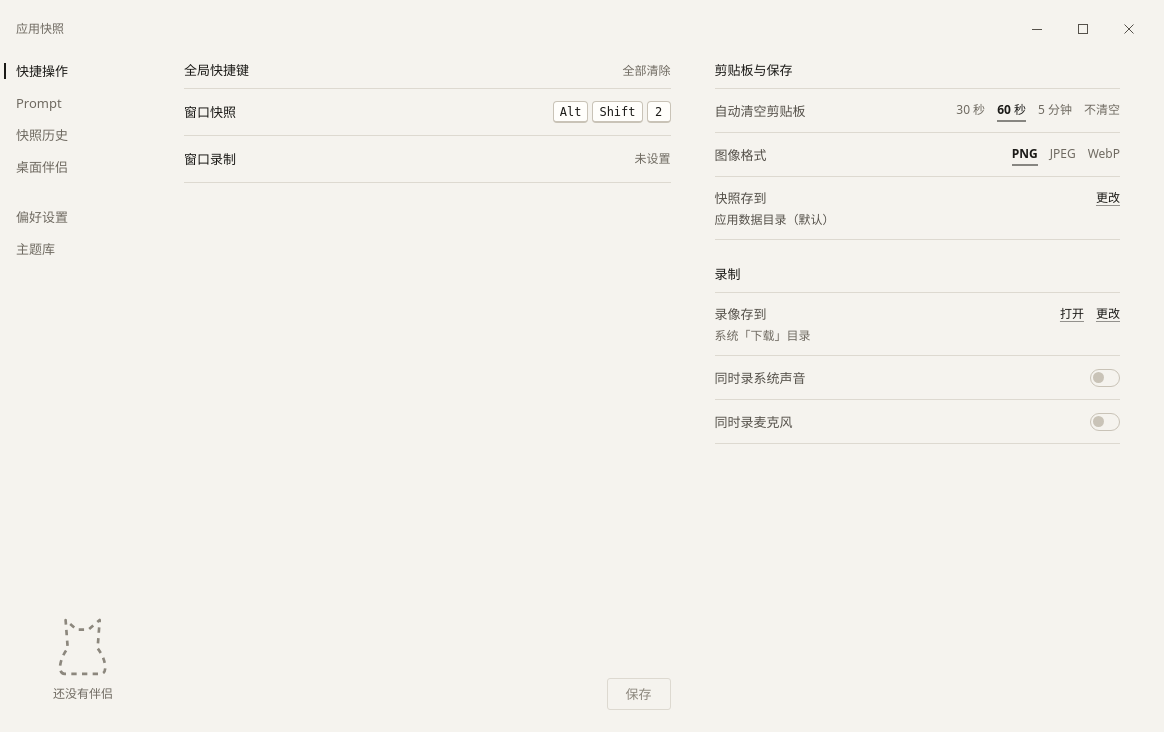
Test: global shortcuts › hands the edited bindings to the backend and shows its verdict
Click the button with aria-label "快捷键：窗口录制，当前按键：未设置" at x=210, y=159, box x1=174 y1=136 x2=680 y2=182
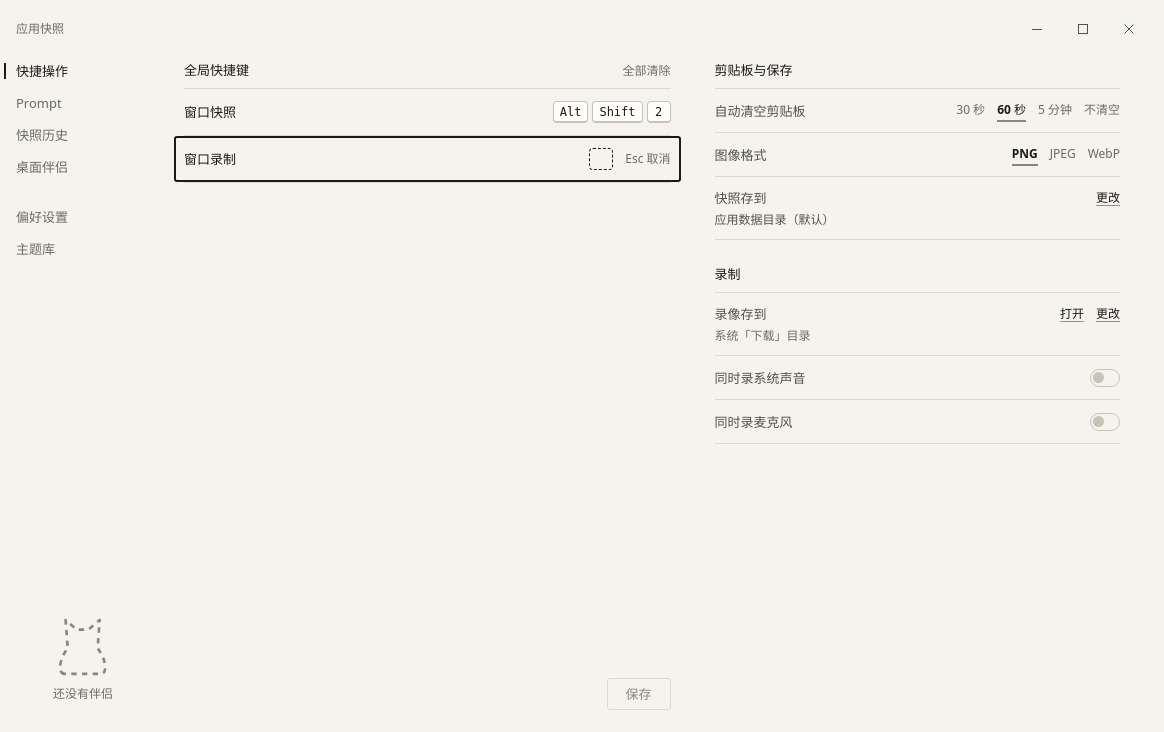
Type keys "{Alt>}{Shift>}2{/Shift}{/Alt}"
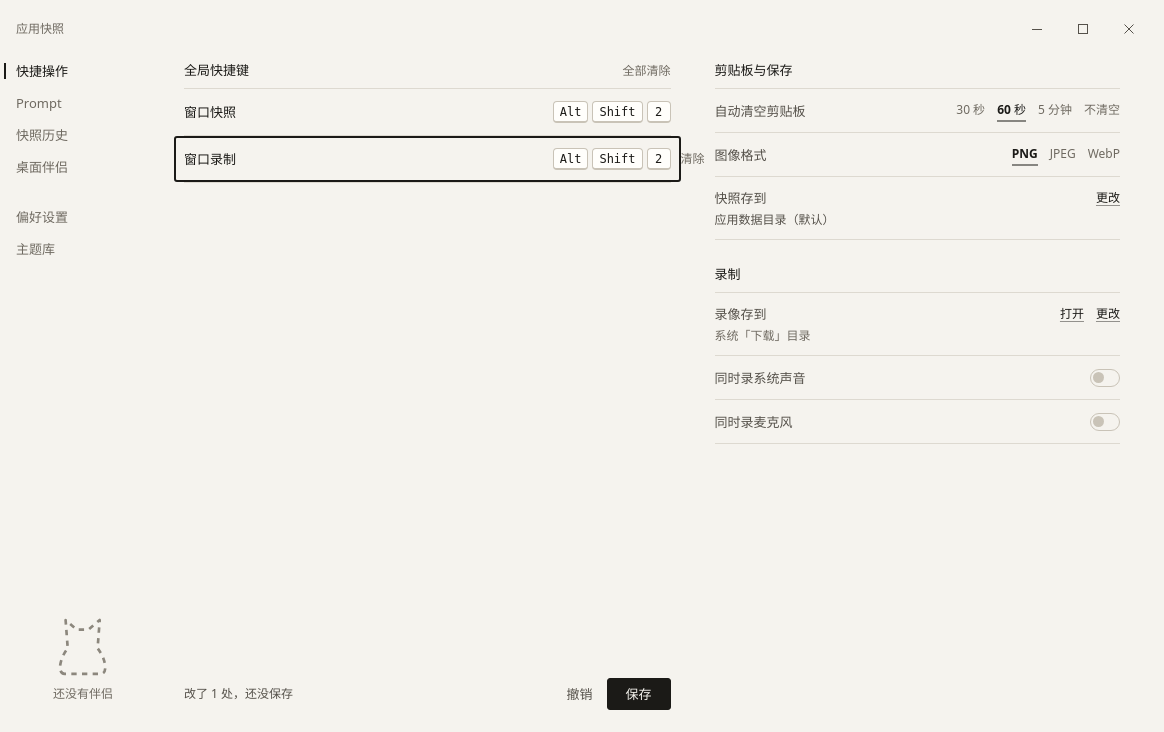
Now the button with aria-label "快捷键：窗口录制，当前按键：Alt+Shift+2" is shown, box x1=174 y1=136 x2=680 y2=182
Click the button with aria-label "保存快捷键" at x=638, y=694, box x1=606 y1=678 x2=670 y2=710
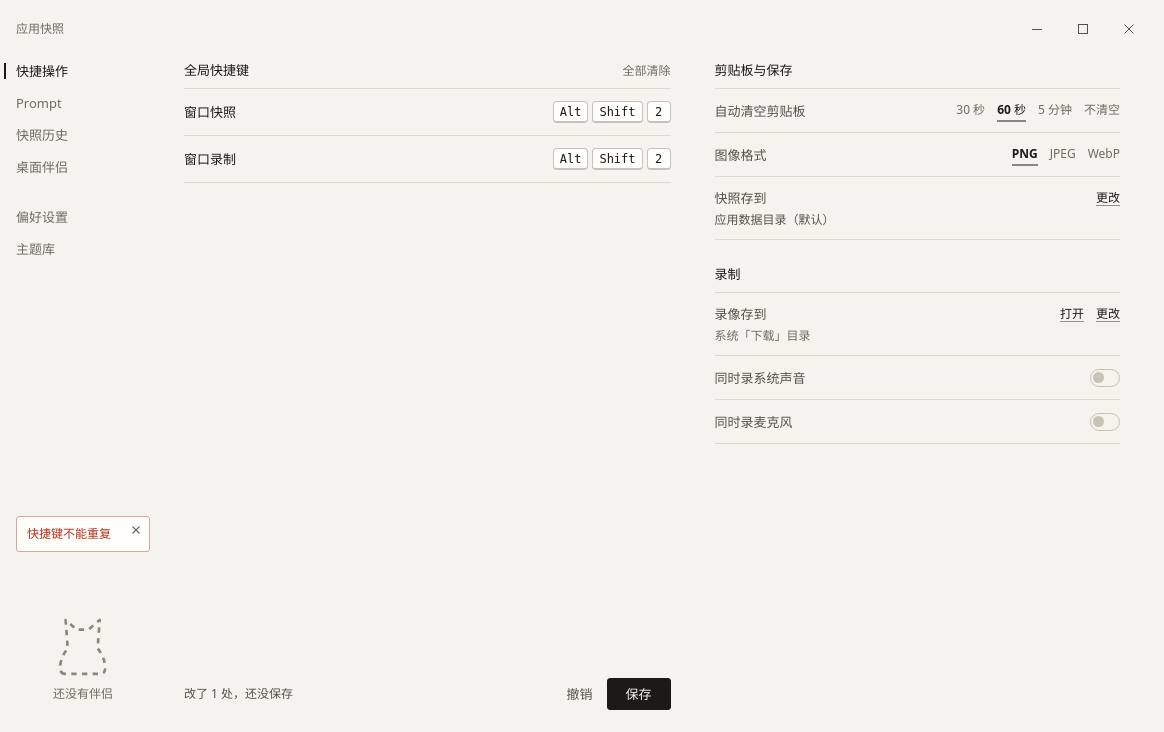
Now the text "快捷键不能重复" is shown, box x1=27 y1=525 x2=111 y2=542
